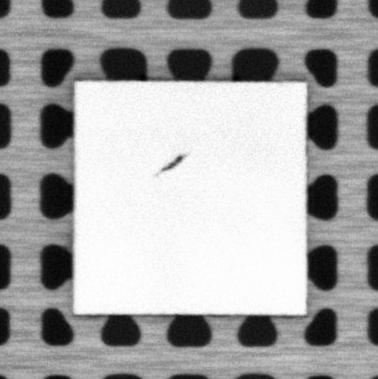DIE_INK: (154, 152, 187, 178)
